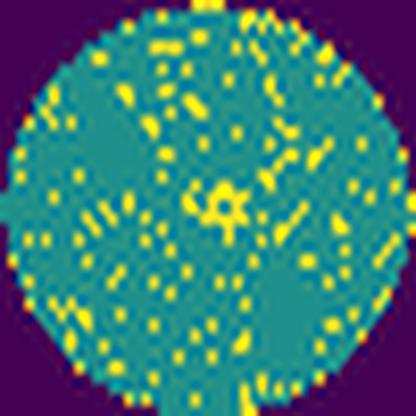Center: (180, 174, 255, 247)
